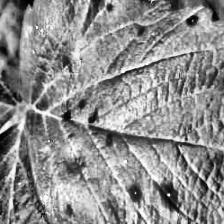Leaf Spot: (18, 0, 224, 224), (0, 118, 88, 224), (149, 0, 224, 74), (0, 0, 22, 205)
